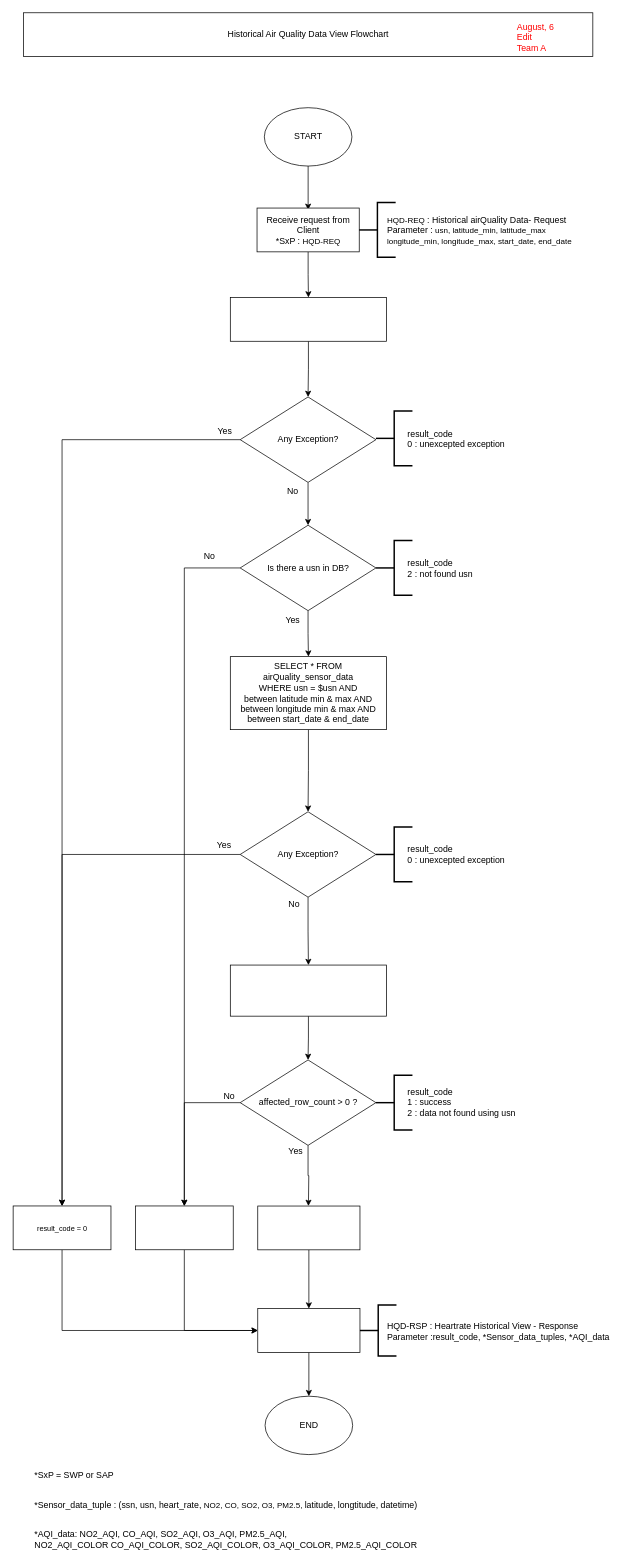
Some shapes in this 630 by 1564 pixel diagram are drawn without their labels. Each missing label, with the centre of its shape:
affected_row_count = $query -> rowCount(): the point at 308,990
Response to Client *SxP : HQD-RSP: the point at 308,1330
result_code = 1: the point at 308,1227
result_code = 2: the point at 184,1227
SELECT * FROM user_authorized WHERE usn = usn: the point at 308,319
